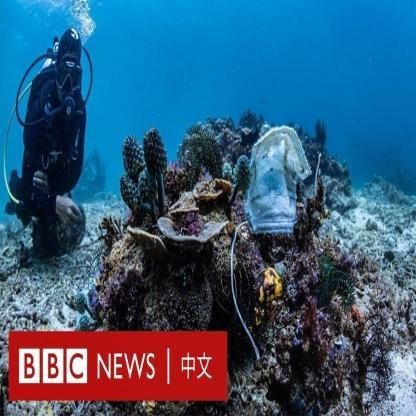Mask: (245, 121, 310, 244)
